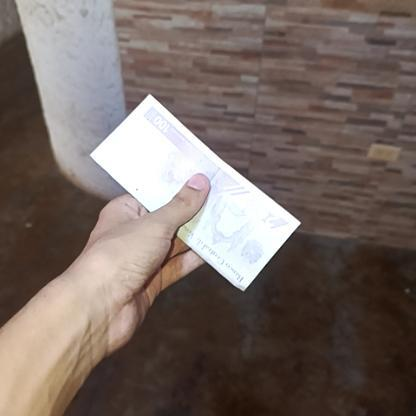one_hundred-back-vef: (88, 93, 302, 292)
